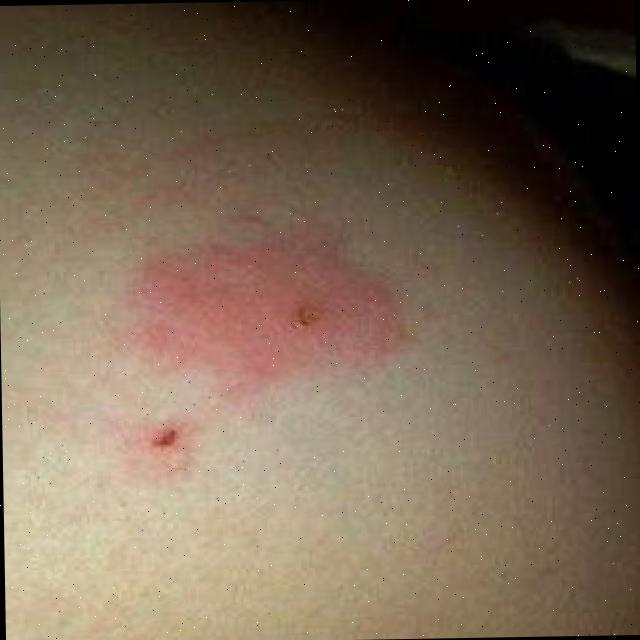kene: (104, 189, 437, 424)
